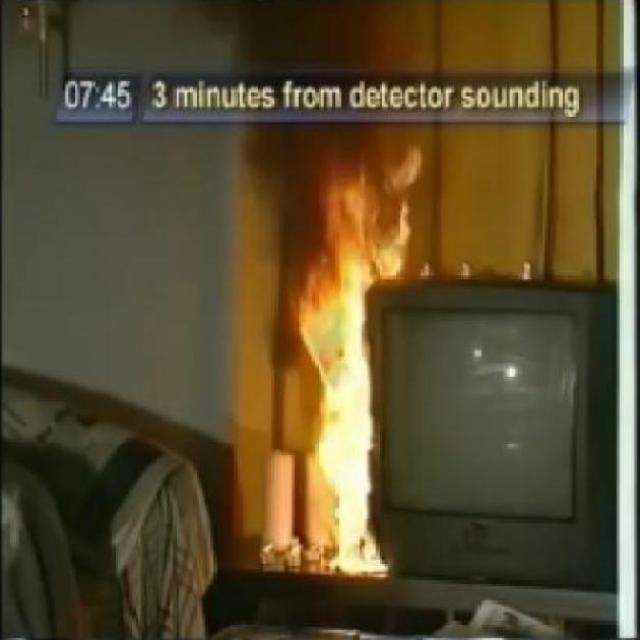smoke: (248, 134, 466, 568)
